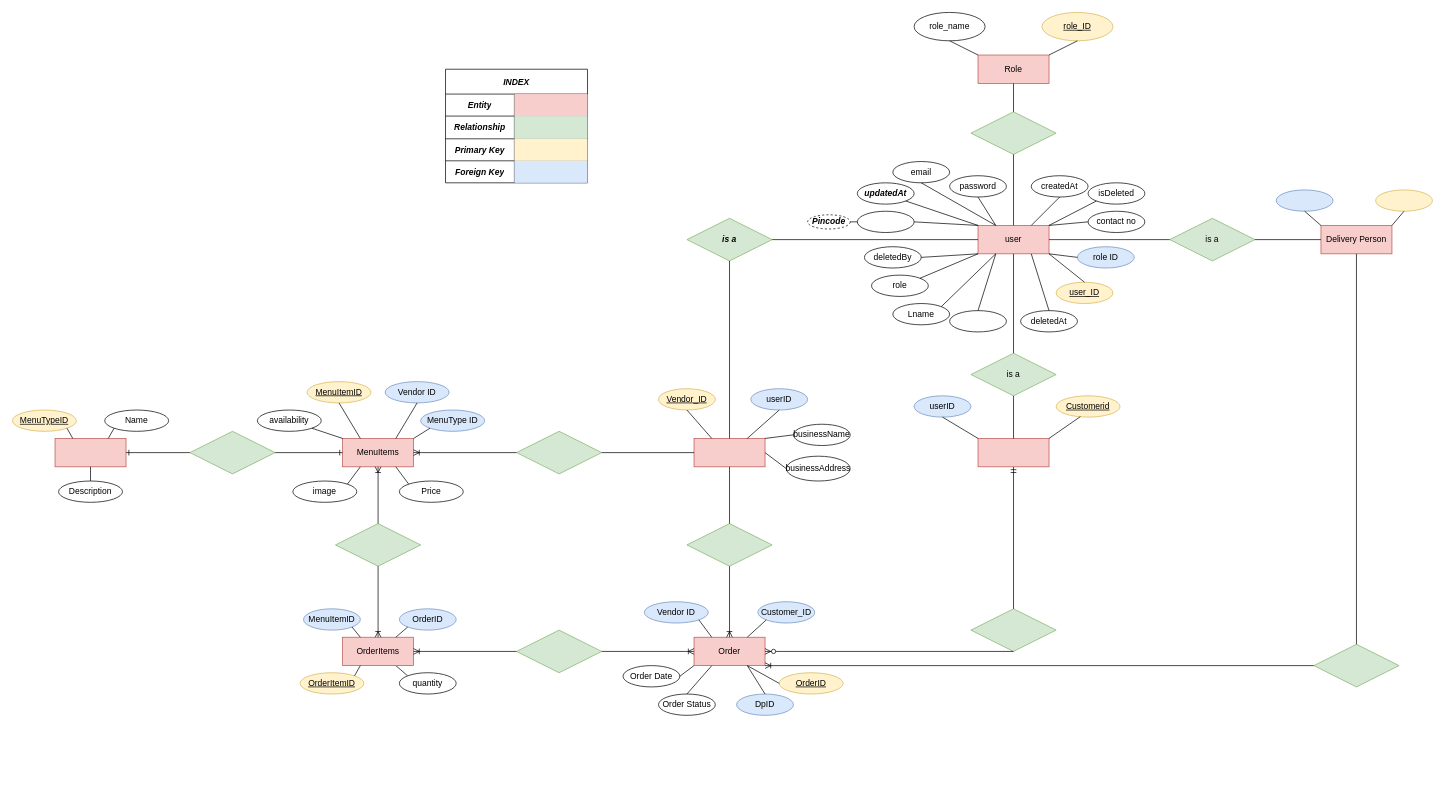
Some shapes in this 1445 by 804 pixel diagram are drawn without their labels. Here are the shapes that lost their labels. From the top down, the centre of each, then its label:
At pixel 1013 132: "has a".
At pixel 1304 200: "user ID".
At pixel 1403 200: "Dp_ID".
At pixel 885 222: "address".
At pixel 977 321: "Fname".
At pixel 90 452: "Menu Type".
At pixel 232 452: "belongs to".
At pixel 559 452: "manages".
At pixel 729 452: "Vendor".
At pixel 1013 452: "Customer".
At pixel 378 544: "contains".
At pixel 729 544: "processes".
At pixel 1013 629: "places".
At pixel 559 651: "has".
At pixel 1356 665: "delivers".
